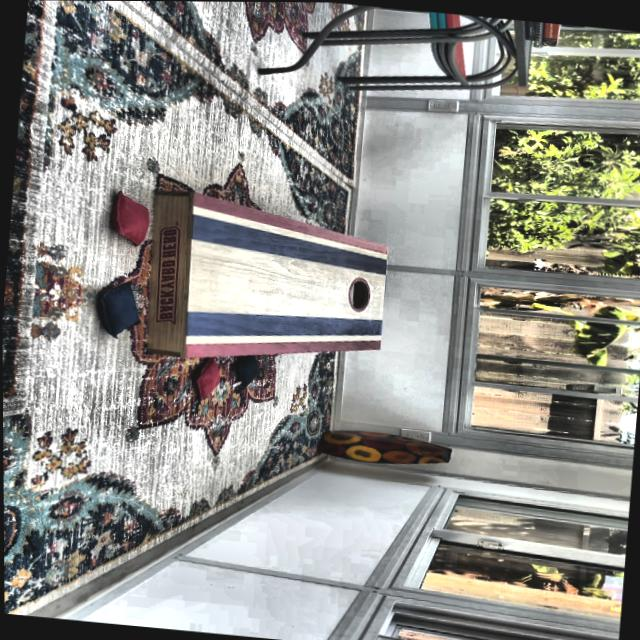blue-bean-bag: (94, 277, 145, 341), (233, 352, 260, 390)
board: (180, 218, 388, 356)
hole: (345, 275, 372, 313)
red-bean-bag: (107, 190, 152, 247), (191, 356, 221, 400)
